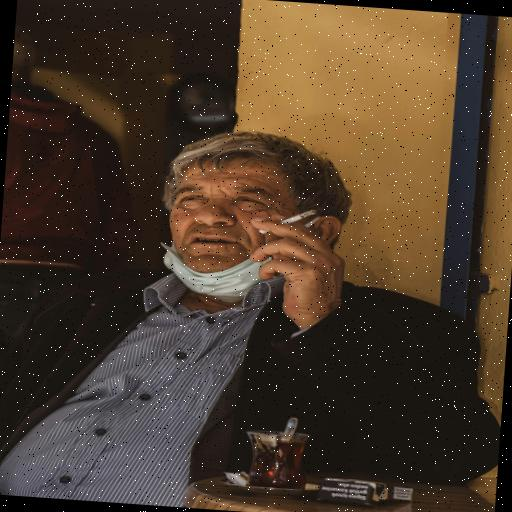terdeteksi pegang rokok: (236, 176, 352, 287)
